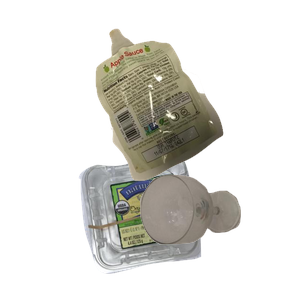glass: (138, 172, 300, 300)
metal: (99, 70, 236, 176)
plastic: (76, 151, 270, 300)
trash: (93, 26, 300, 200)
